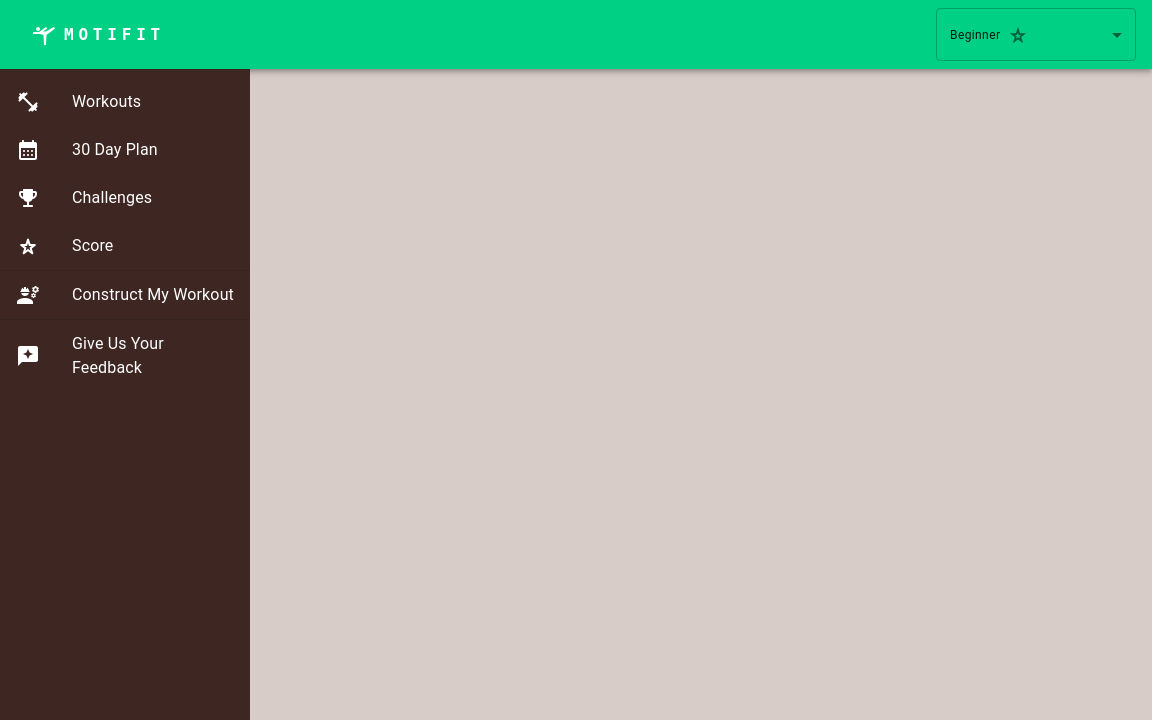
Test: Motifit app › should show 30 Day Plan
Click the text "30 Day Plan" at (115, 150), box top-left (72, 140), bottom-right (158, 159)
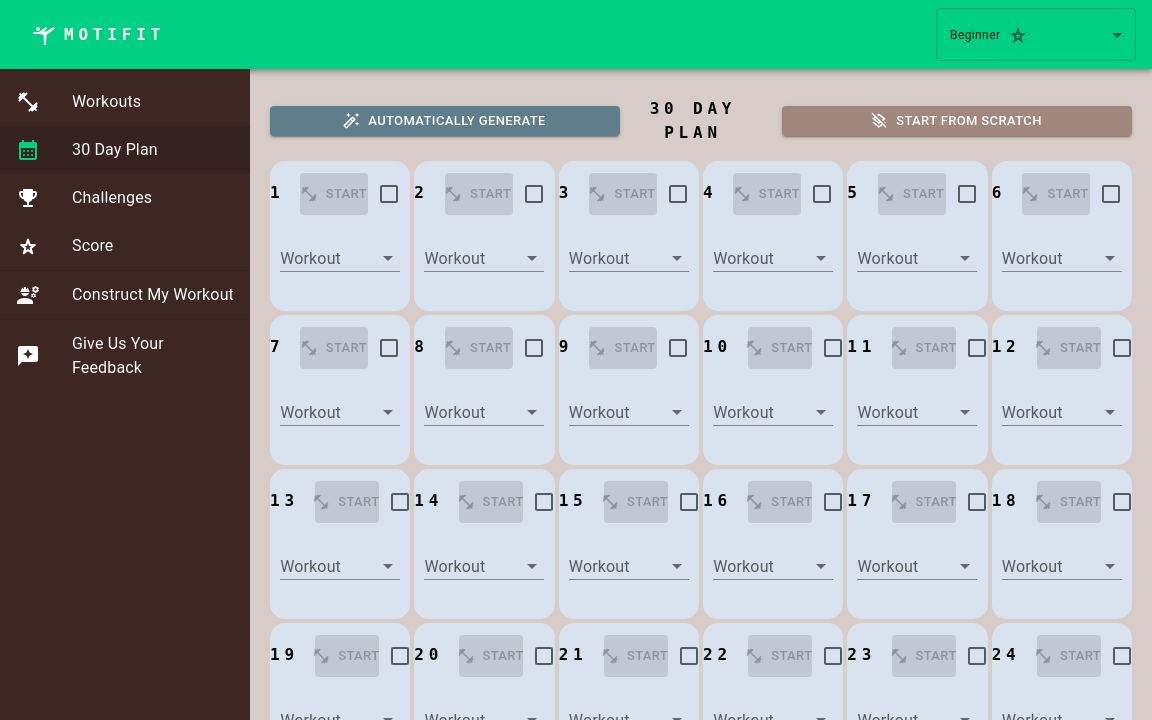
Now the text "1" is shown, box top-left (270, 181), bottom-right (284, 207)
Now the text "2" is shown, box top-left (414, 181), bottom-right (429, 207)
